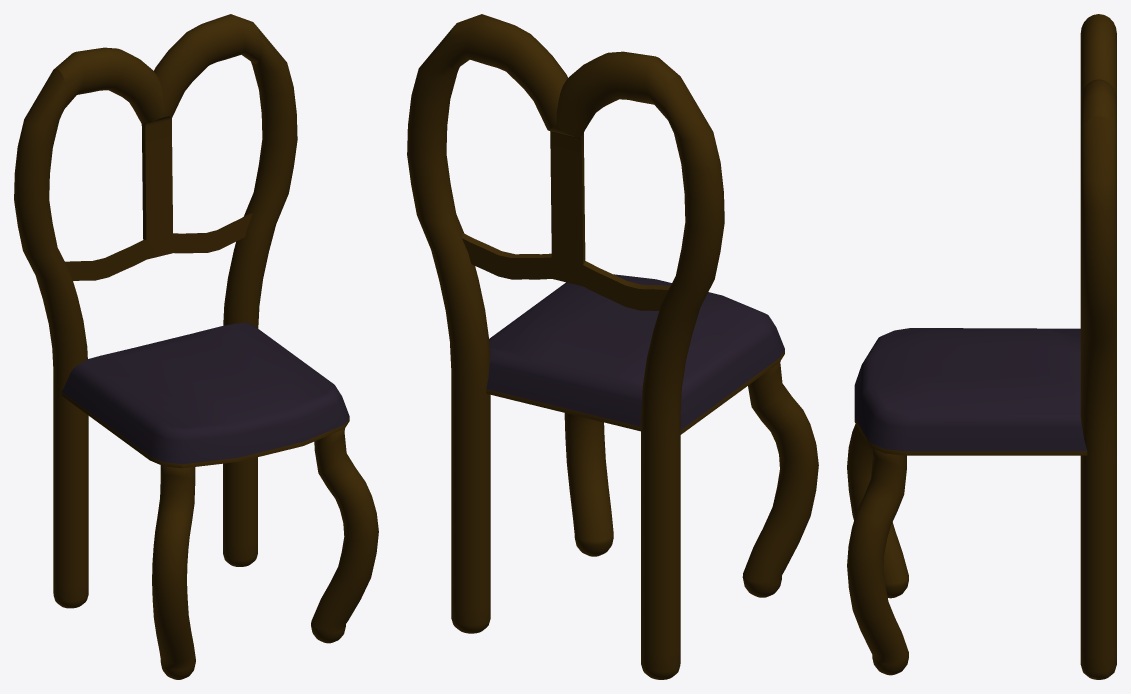
Rendered from PurpleChair.fbx.
3 renders of one model, left to right at view 1: azimuth 30°, elevation 25°; view 2: azimuth 150°, elevation 25°; view 3: azimuth 270°, elevation 25°, orthographic. The views are drawn at different scales.
Visible parts, largest first — view 1: pCylinder8; view 2: pCylinder8; view 3: pCylinder8.
Part boxes in pixels (x1=…): pCylinder8: x1=14, y1=14, x2=378, y2=679; pCylinder8: x1=407, y1=14, x2=818, y2=679; pCylinder8: x1=847, y1=14, x2=1116, y2=679.
Size of the model in its own units: 6.36 by 12.04 by 5.06.
